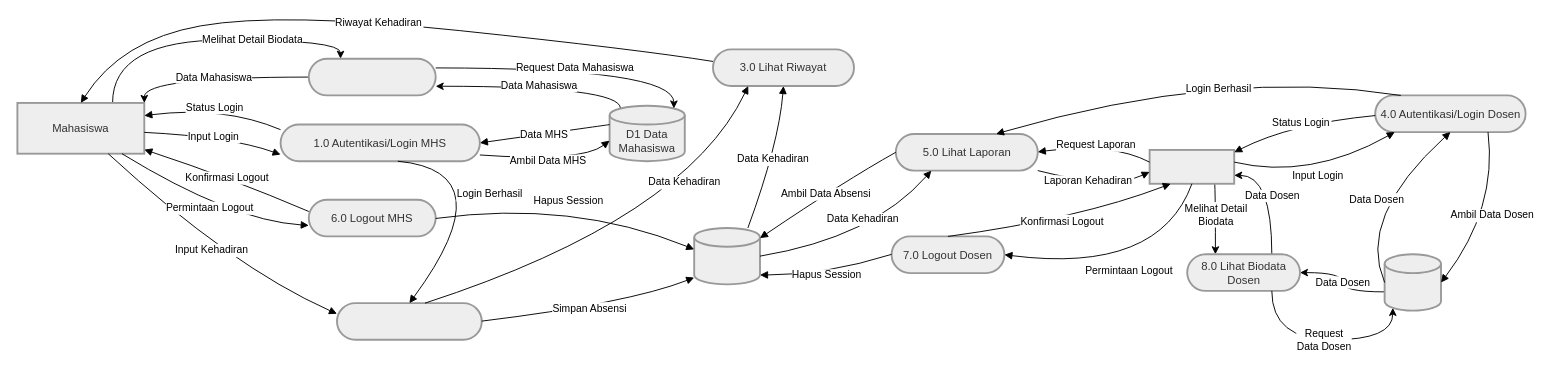
Image size: 1551x368. Some labels were removed from this diagram. The centre of each missing label's shape, as x and y in pixels:
"2.0 Proses Absensi" goes at point 409,321.
"9.0 Lihat Biodata Mahasiswa" goes at point 371,76.
"D2 Data Absensi" goes at point 726,256.
"D3 Data Dosen" goes at point 1412,282.
"Dosen" goes at point 1191,166.
